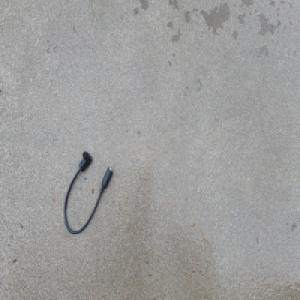Wire: (63, 149, 114, 235)
